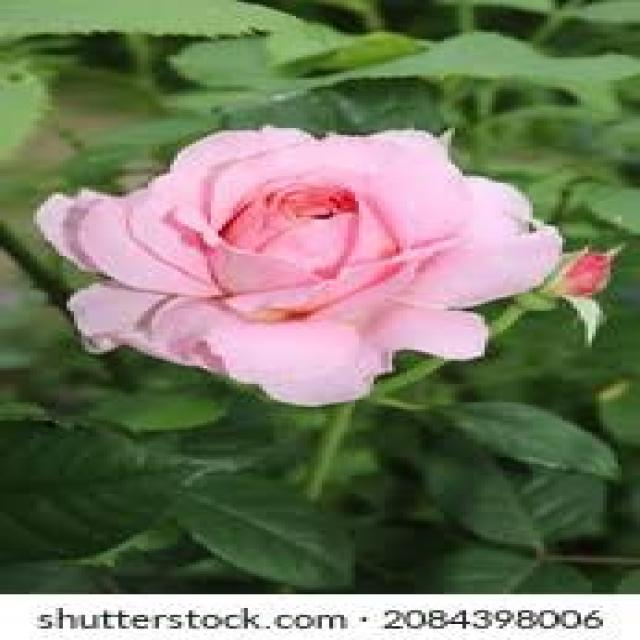rose: (24, 115, 579, 388)
